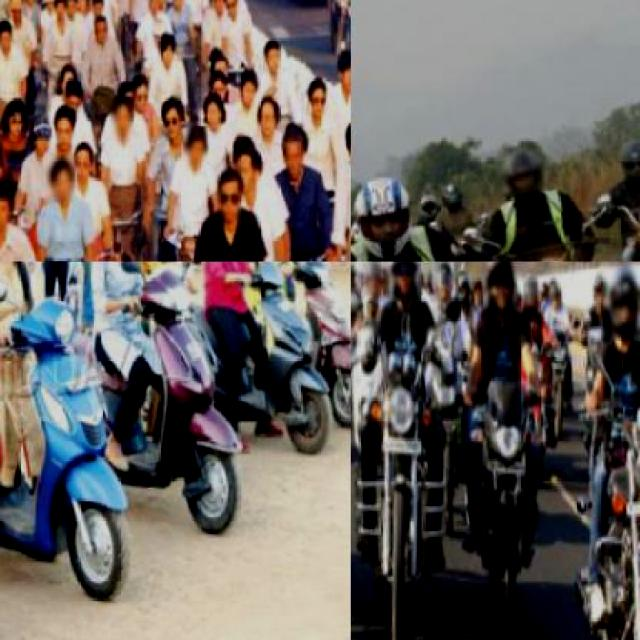With Helmet: (351, 175, 420, 260), (597, 269, 638, 354), (494, 150, 546, 205), (477, 262, 521, 323), (377, 262, 425, 312), (611, 146, 638, 200), (432, 268, 454, 314), (542, 282, 564, 324), (436, 181, 462, 216), (363, 262, 383, 306), (589, 282, 608, 324), (522, 286, 540, 328), (453, 279, 472, 318), (351, 272, 357, 303)
Without Helmet: (204, 168, 244, 230), (36, 156, 72, 210), (103, 100, 132, 152), (177, 132, 206, 178), (0, 182, 9, 242)
